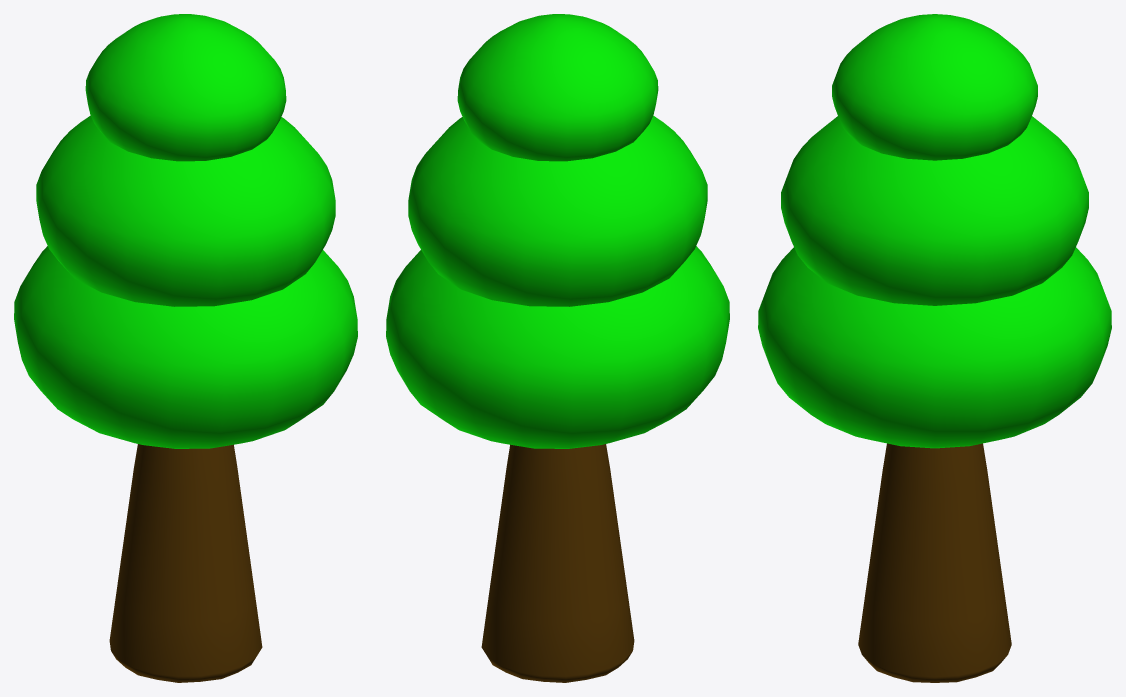
File: tree_4.fbx
The picture shows the model from 3 angles, left to right: view 1: azimuth 30°, elevation 25°; view 2: azimuth 150°, elevation 25°; view 3: azimuth 270°, elevation 25°; orthographic projection.
Parts seen in each view (by area): view 1: tree; view 2: tree; view 3: tree.
Part boxes in pixels (bbox=[...]): tree: bbox=[14, 14, 357, 682]; tree: bbox=[386, 14, 729, 682]; tree: bbox=[758, 14, 1111, 682].
Bounding box in the file's own units: 4.67 × 9.57 × 4.82.
